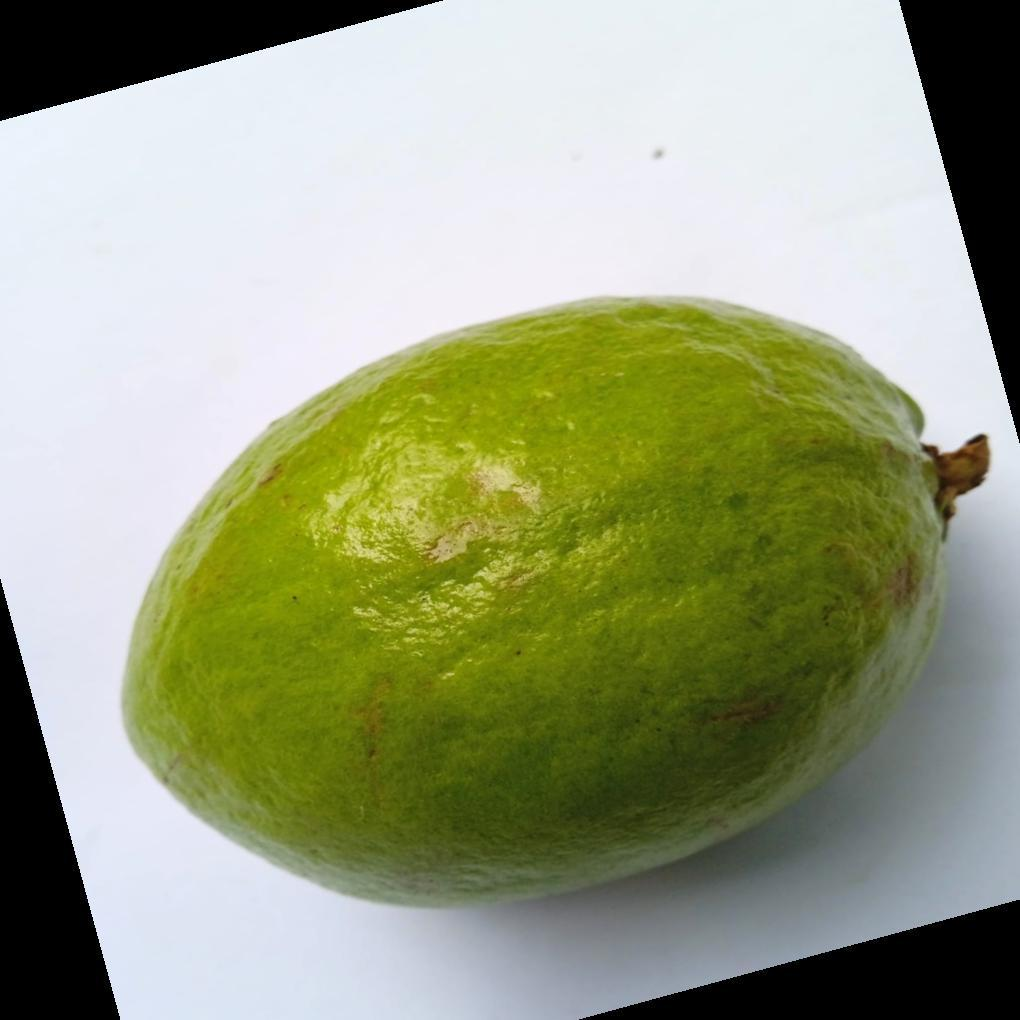FreshGuava: (120, 297, 955, 913)
